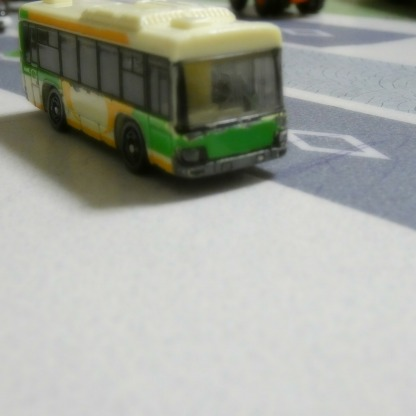car: (14, 0, 283, 182)
